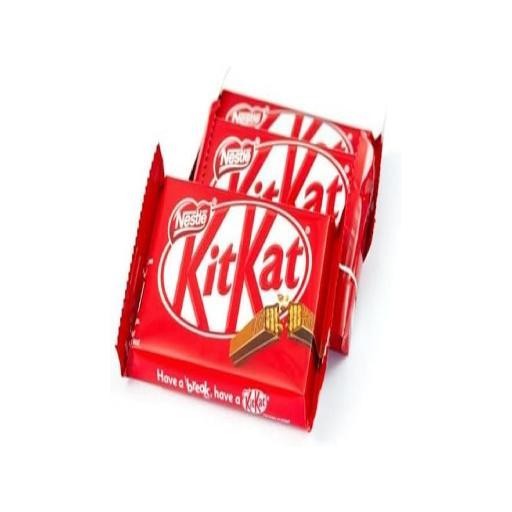kitkat: (119, 138, 349, 465)
